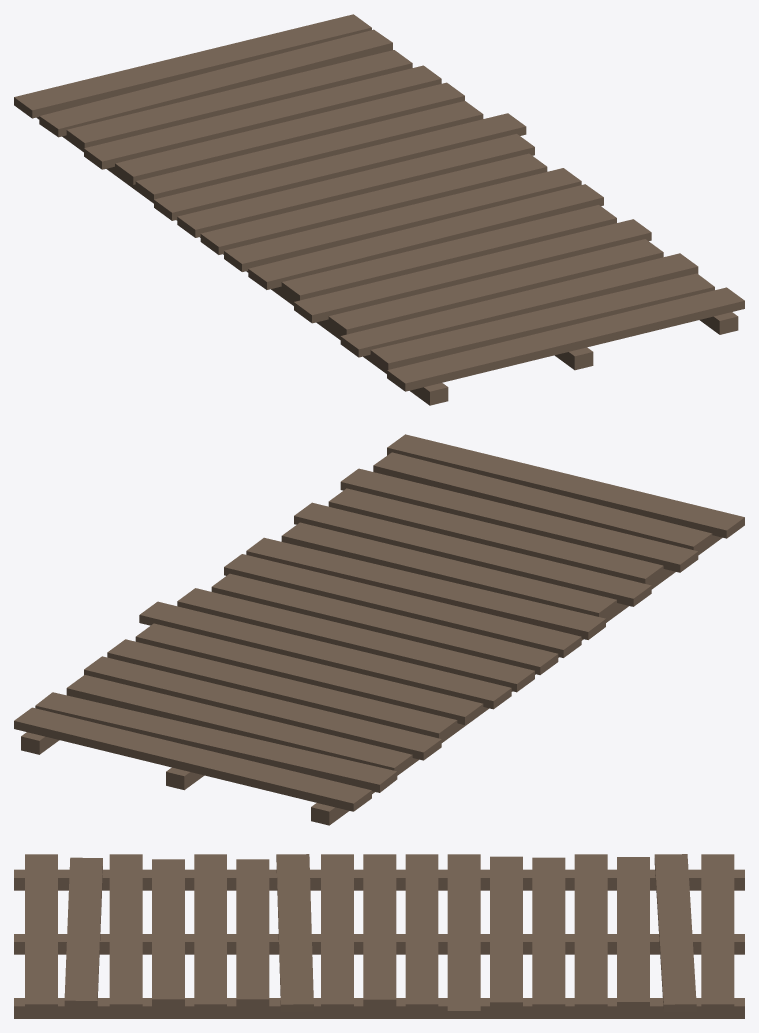
Rendered from model_wood_deck.fbx.
3 renders of one model, top to bottom at view 1: azimuth 30°, elevation 25°; view 2: azimuth 150°, elevation 25°; view 3: azimuth 270°, elevation 25°, orthographic. The views are drawn at different scales.
Visible parts, largest first — view 1: model_wood_deck; view 2: model_wood_deck; view 3: model_wood_deck.
Boxes of the visible parts, <box> form: model_wood_deck: <box>14,14,744,405</box>; model_wood_deck: <box>14,434,744,825</box>; model_wood_deck: <box>14,854,744,1018</box>.
Bounding box in the file's own units: 428 × 25.64 × 844.
Materials: 1 (1 with a texture image).
